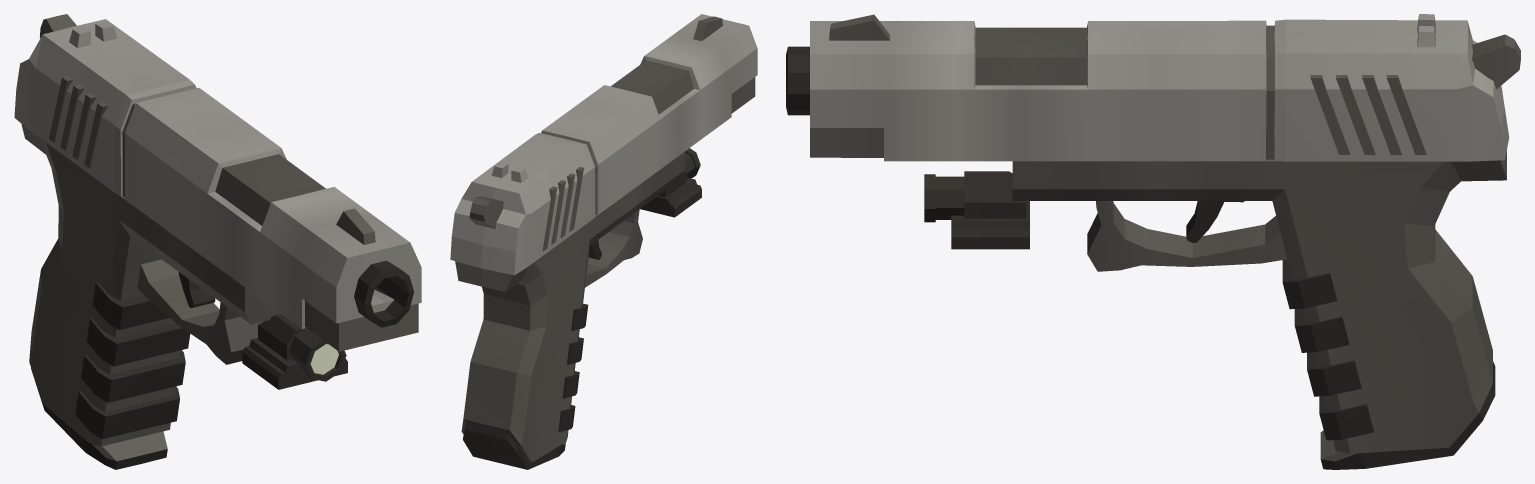
3 views of the same model, side by side, from view 1: azimuth 30°, elevation 25°; view 2: azimuth 150°, elevation 25°; view 3: azimuth 270°, elevation 25° (orthographic). The views are drawn at different scales.
Parts seen in each view (by area): view 1: snub; view 2: snub; view 3: snub.
Boxes of the visible parts, box(x1,y1,x2,y2) form: snub: box(14, 14, 421, 469); snub: box(450, 14, 757, 469); snub: box(786, 14, 1520, 469).
Bounding box in the file's own units: 0.0339 × 0.1482 × 0.225.
Materials: 1 (1 with a texture image).
